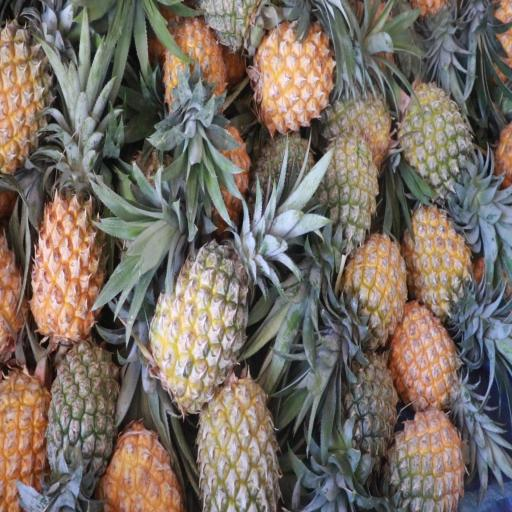------------------------------: (152, 240, 248, 400), (202, 381, 280, 512)
Pineapple - v8 v1: (32, 190, 103, 344), (0, 22, 59, 170), (0, 367, 53, 512), (258, 24, 334, 122), (407, 204, 472, 314), (106, 420, 183, 512), (393, 303, 458, 406), (346, 231, 407, 338), (166, 24, 227, 120)
